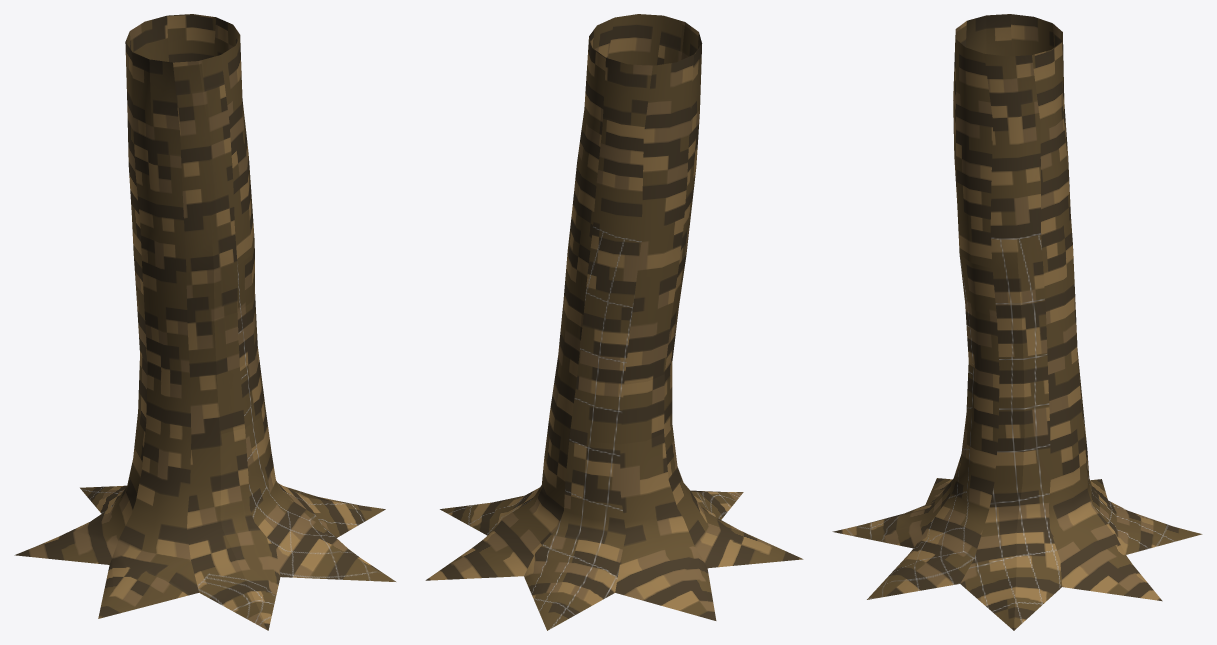
The model's file is MytREE_Myaamiagame_ver002.fbx.
3 views of the same model, side by side, from view 1: azimuth 30°, elevation 25°; view 2: azimuth 150°, elevation 25°; view 3: azimuth 270°, elevation 25° (orthographic). The views are drawn at different scales.
Parts seen in each view (by area): view 1: tree1; view 2: tree1; view 3: tree1.
Part boxes in pixels (box(x1,y1,x2,y2)): tree1: box(14, 14, 395, 630); tree1: box(425, 14, 803, 630); tree1: box(832, 14, 1202, 630).
Size of the model in its own units: 188 by 287 by 192.
